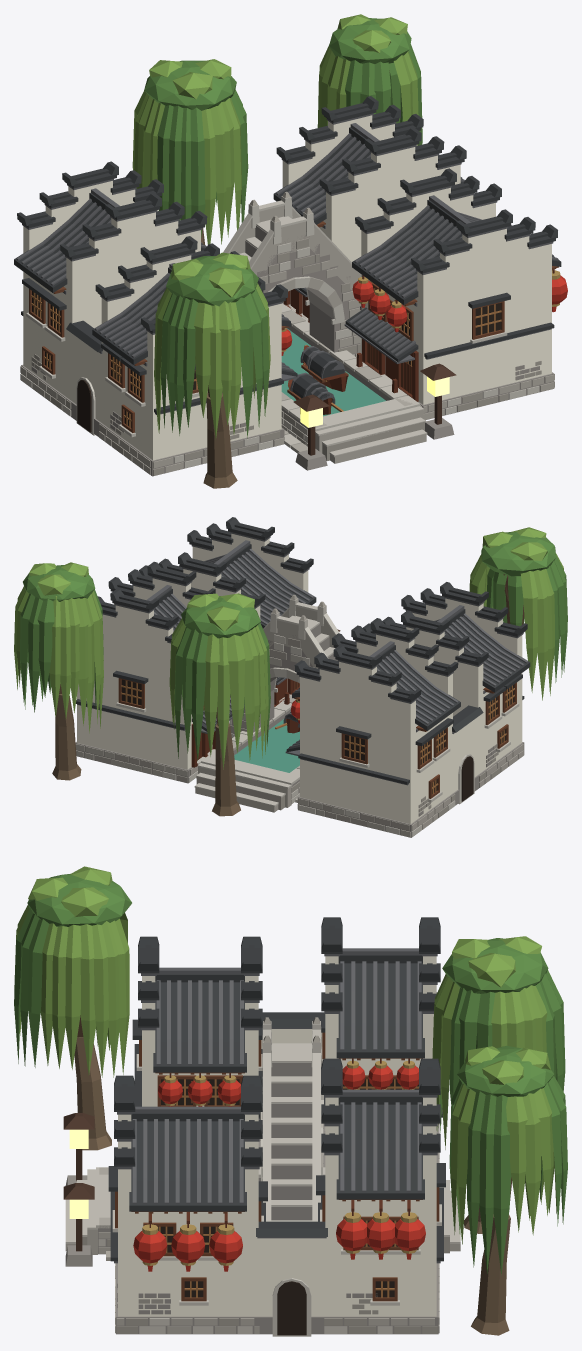
Rendered from canal_town.glb.
3 renders of one model, top to bottom at view 1: azimuth 30°, elevation 25°; view 2: azimuth 150°, elevation 25°; view 3: azimuth 270°, elevation 25°, orthographic. The views are drawn at different scales.
Visible parts, largest first — view 1: canal_town_CT_Whitewash, canal_town_CT_RoofCharcoal, canal_town_CT_LeafFresh, canal_town_CT_LeafFreshLight, canal_town_CT_RoofCharcoalEdge, canal_town_CT_GreyStoneLight, canal_town_CT_GreyStone, canal_town_CT_GreyStoneShade, canal_town_CT_GreyStoneMid, canal_town_CT_Wood, canal_town_CT_TimberDark, canal_town_CT_Bark (+8 smaller); view 2: canal_town_CT_Whitewash, canal_town_CT_LeafFreshLight, canal_town_CT_RoofCharcoal, canal_town_CT_LeafFresh, canal_town_CT_RoofCharcoalEdge, canal_town_CT_GreyStoneLight, canal_town_CT_GreyStone, canal_town_CT_Bark, canal_town_CT_GreyStoneShade, canal_town_CT_GreyStoneMid, canal_town_CT_Water, canal_town_CT_Wood (+4 smaller); view 3: canal_town_CT_RoofCharcoal, canal_town_CT_Whitewash, canal_town_CT_LeafFreshLight, canal_town_CT_LeafFresh, canal_town_CT_RoofCharcoalEdge, canal_town_CT_GreyStoneLight, canal_town_CT_GreyStoneShade, canal_town_CT_LanternRed, canal_town_CT_Bark, canal_town_CT_Wood, canal_town_CT_GreyStone, canal_town_CT_GreyStoneMid (+7 smaller).
Part boxes in pixels (x1=…): canal_town_CT_Whitewash: x1=23, y1=115, x2=551, y2=460; canal_town_CT_RoofCharcoal: x1=14, y1=96, x2=561, y2=413; canal_town_CT_LeafFresh: x1=144, y1=18, x2=422, y2=438; canal_town_CT_LeafFreshLight: x1=132, y1=14, x2=418, y2=439; canal_town_CT_RoofCharcoalEdge: x1=16, y1=113, x2=558, y2=414; canal_town_CT_GreyStoneLight: x1=20, y1=196, x2=539, y2=468; canal_town_CT_GreyStone: x1=20, y1=205, x2=554, y2=474; canal_town_CT_GreyStoneShade: x1=21, y1=225, x2=554, y2=476; canal_town_CT_GreyStoneMid: x1=31, y1=191, x2=554, y2=475; canal_town_CT_Wood: x1=29, y1=225, x2=554, y2=432; canal_town_CT_TimberDark: x1=283, y1=268, x2=556, y2=414; canal_town_CT_Bark: x1=201, y1=228, x2=237, y2=488; canal_town_CT_Whitewash: x1=77, y1=533, x2=522, y2=824; canal_town_CT_LeafFreshLight: x1=14, y1=527, x2=563, y2=769; canal_town_CT_RoofCharcoal: x1=76, y1=517, x2=530, y2=784; canal_town_CT_LeafFresh: x1=20, y1=532, x2=567, y2=761; canal_town_CT_RoofCharcoalEdge: x1=77, y1=532, x2=527, y2=785; canal_town_CT_GreyStoneLight: x1=116, y1=598, x2=519, y2=837; canal_town_CT_GreyStone: x1=75, y1=606, x2=523, y2=837; canal_town_CT_Bark: x1=52, y1=694, x2=240, y2=816; canal_town_CT_GreyStoneShade: x1=75, y1=624, x2=524, y2=837; canal_town_CT_GreyStoneMid: x1=95, y1=594, x2=500, y2=830; canal_town_CT_Water: x1=234, y1=719, x2=299, y2=772; canal_town_CT_Wood: x1=118, y1=678, x2=516, y2=798; canal_town_CT_RoofCharcoal: x1=108, y1=917, x2=445, y2=1261; canal_town_CT_Whitewash: x1=118, y1=956, x2=436, y2=1316; canal_town_CT_LeafFreshLight: x1=14, y1=866, x2=556, y2=1244; canal_town_CT_LeafFresh: x1=14, y1=874, x2=567, y2=1275; canal_town_CT_RoofCharcoalEdge: x1=114, y1=948, x2=440, y2=1263; canal_town_CT_GreyStoneLight: x1=65, y1=1021, x2=460, y2=1336; canal_town_CT_GreyStoneShade: x1=98, y1=1062, x2=438, y2=1334; canal_town_CT_LanternRed: x1=133, y1=1065, x2=425, y2=1271; canal_town_CT_Bark: x1=74, y1=1037, x2=510, y2=1335; canal_town_CT_Wood: x1=115, y1=1032, x2=439, y2=1301; canal_town_CT_GreyStone: x1=65, y1=1094, x2=460, y2=1333; canal_town_CT_GreyStoneMid: x1=82, y1=1017, x2=449, y2=1333.
Bounding box in the file's own units: 4.31 × 2.35 × 4.14.
